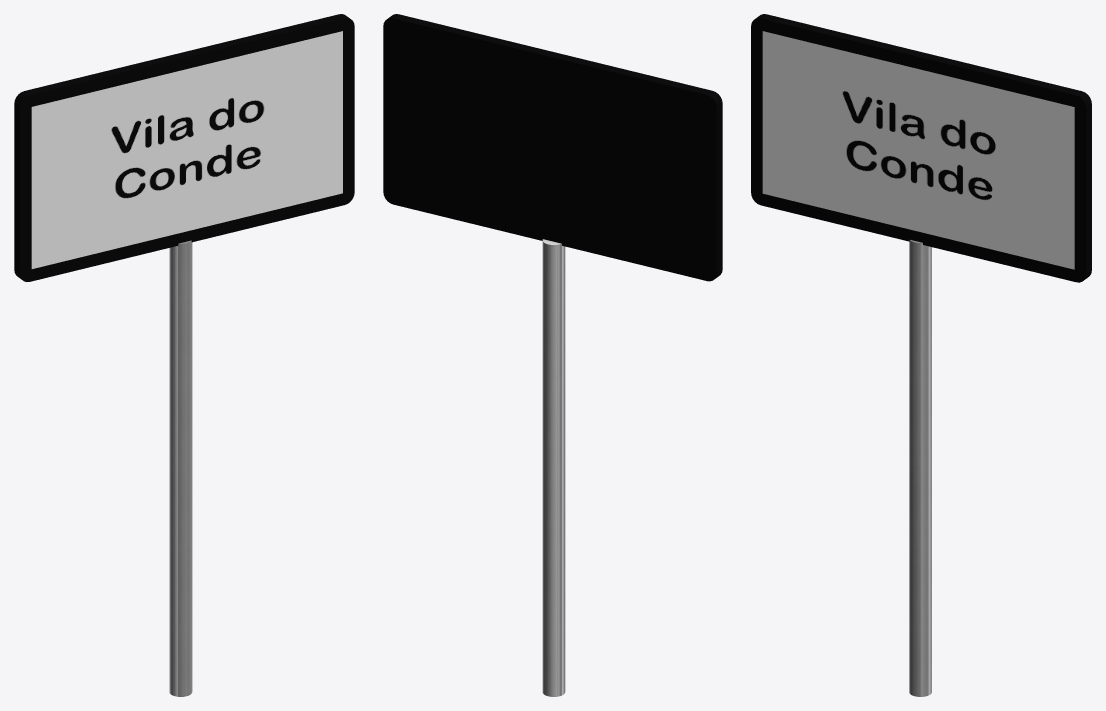
File: Vila do Conde.gltf
3 renders of one model, left to right at view 1: azimuth 30°, elevation 25°; view 2: azimuth 150°, elevation 25°; view 3: azimuth 330°, elevation 25°, orthographic.
Parts seen in each view (by area): view 1: root; view 2: root; view 3: root.
Boxes of the visible parts, bbox=[...] form: root: bbox=[14, 14, 354, 696]; root: bbox=[383, 14, 722, 696]; root: bbox=[751, 14, 1091, 696].
Size of the model in its own units: 0.4318 by 0.7865 by 0.0254.
4 materials, 2 textured.
